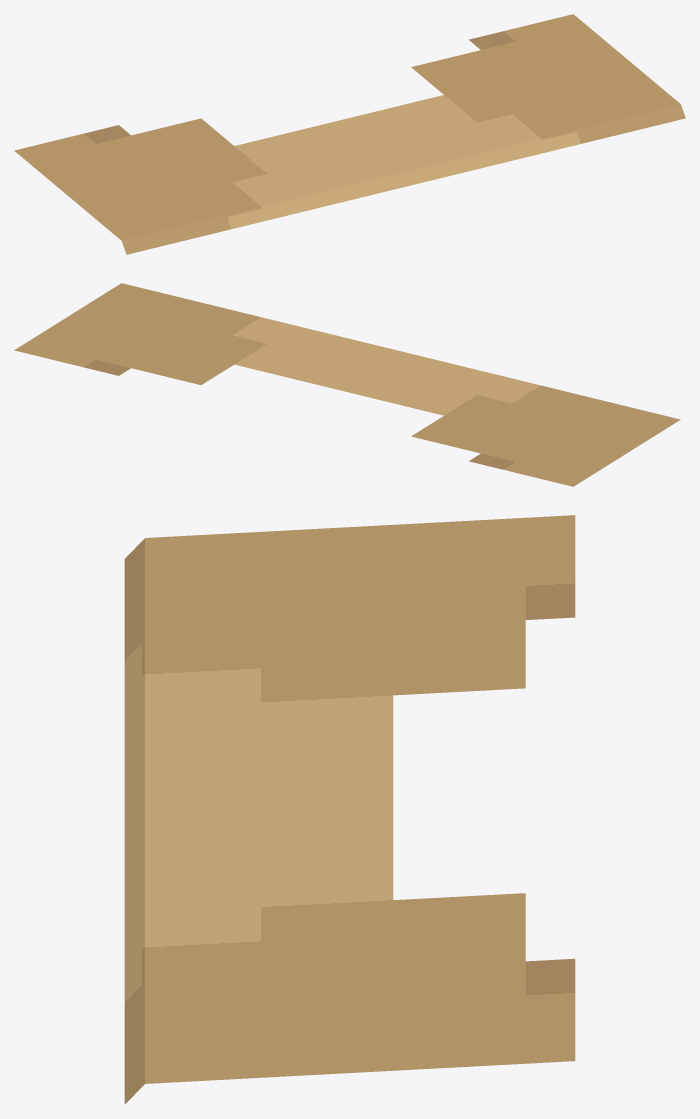
3 views of the same model, one above another, from view 1: azimuth 30°, elevation 25°; view 2: azimuth 150°, elevation 25°; view 3: azimuth 270°, elevation 25° (orthographic). The views are drawn at different scales.
Size of the model in its own units: 1 by 0.0373 by 0.3486.
Materials: 1 (1 with a texture image).
